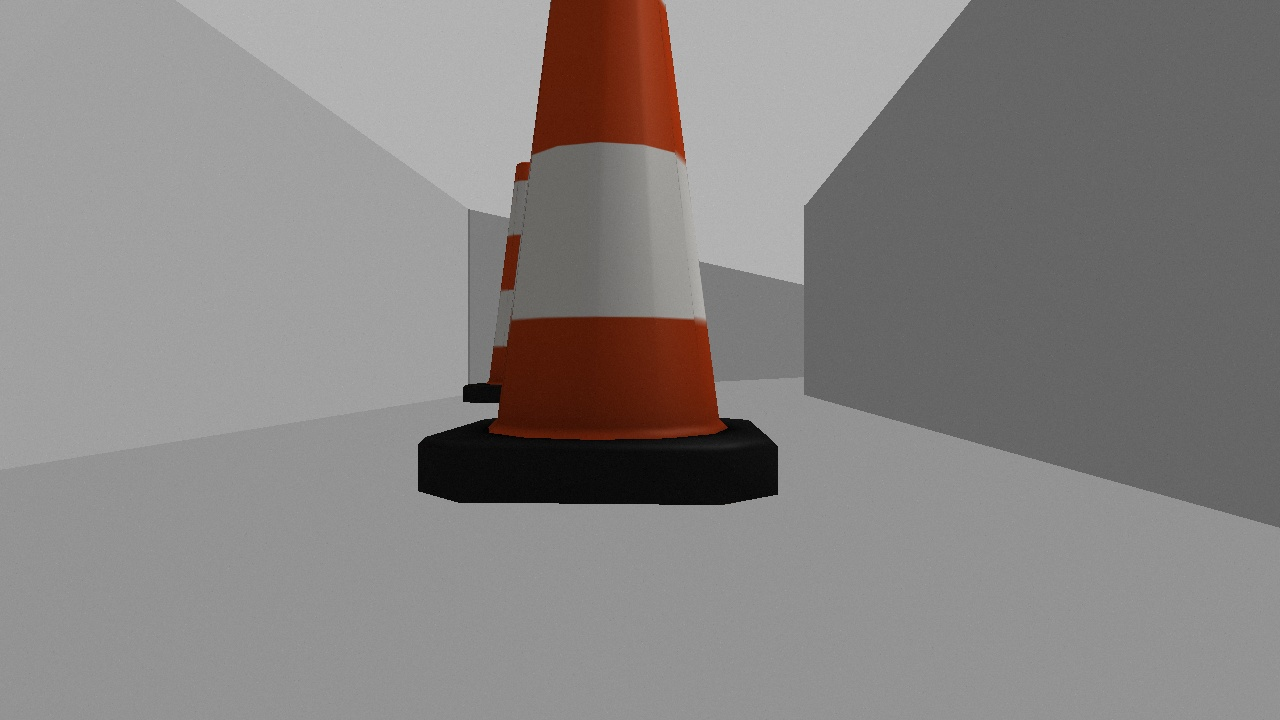barricade: (378, 1, 816, 520), (456, 147, 572, 409)
